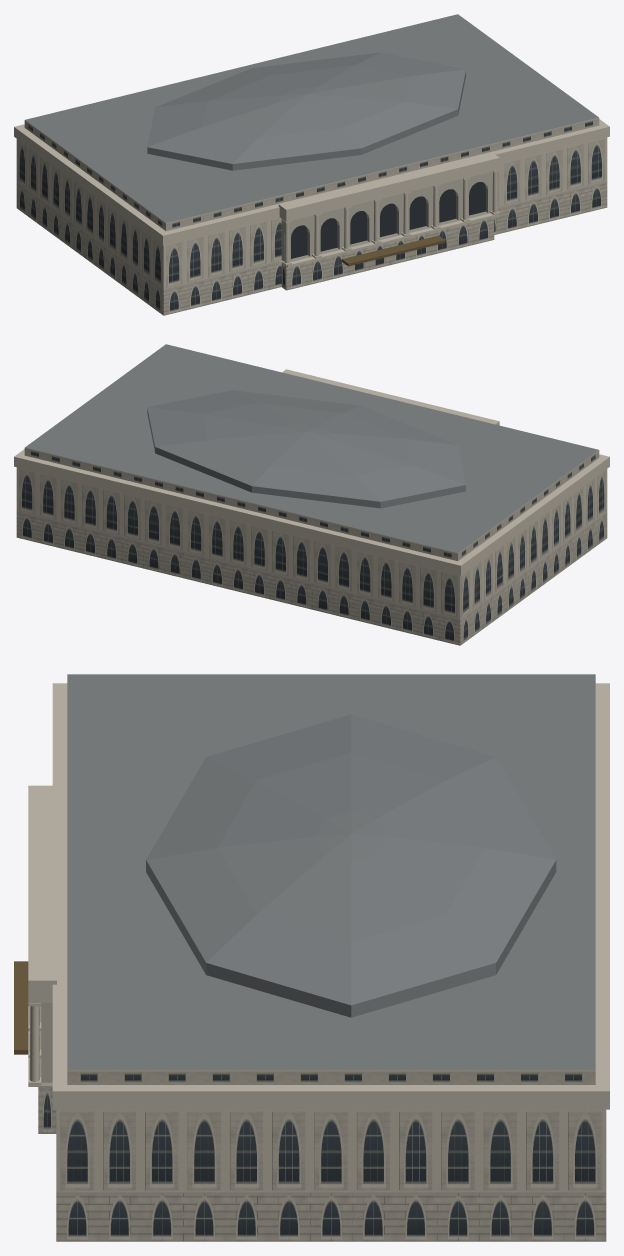
Rendered from bill_graham_civic_auditorium.glb.
The picture shows the model from 3 angles, top to bottom: view 1: azimuth 30°, elevation 25°; view 2: azimuth 150°, elevation 25°; view 3: azimuth 270°, elevation 25°; orthographic projection. The views are drawn at different scales.
Visible parts, largest first — view 1: bill_graham_civic_auditorium; view 2: bill_graham_civic_auditorium; view 3: bill_graham_civic_auditorium.
Part boxes in pixels (x1,y1,x2,y2): bill_graham_civic_auditorium: [14, 14, 609, 315]; bill_graham_civic_auditorium: [14, 344, 609, 645]; bill_graham_civic_auditorium: [14, 674, 609, 1241].
Bounding box in the file's own units: 128 × 30 × 78.99.
Materials: 2 (2 with a texture image).
